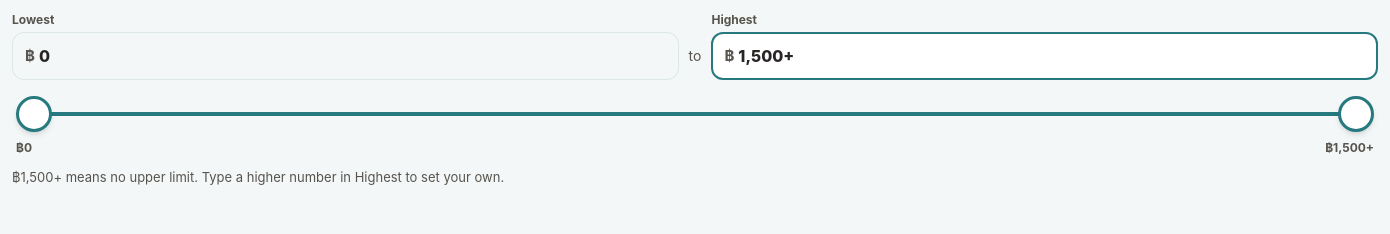
it: feat/27 the shared price slider: typed boxes and a bar, in a popover and in the sheet › typing a number › never grows the bar past 20,000, and cuts a larger Highest back to 20,000
Replace the text in the field labelled "Highest ฿" with "25000": (1052, 56) [738, 44, 1365, 68]
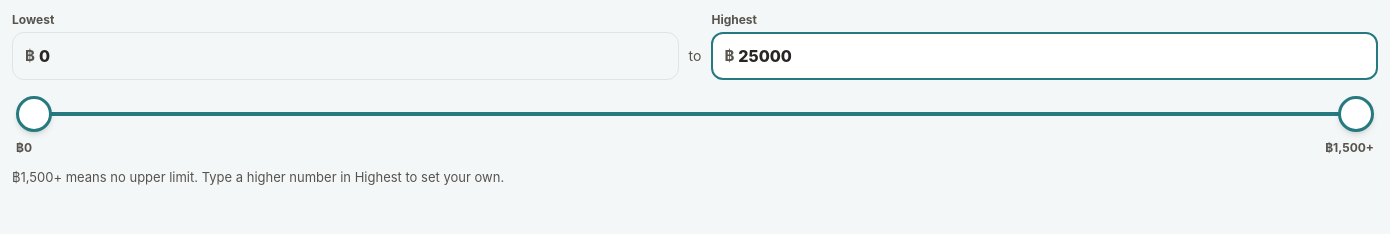
Leave the field labelled "Highest ฿", box [738, 44, 1365, 68]
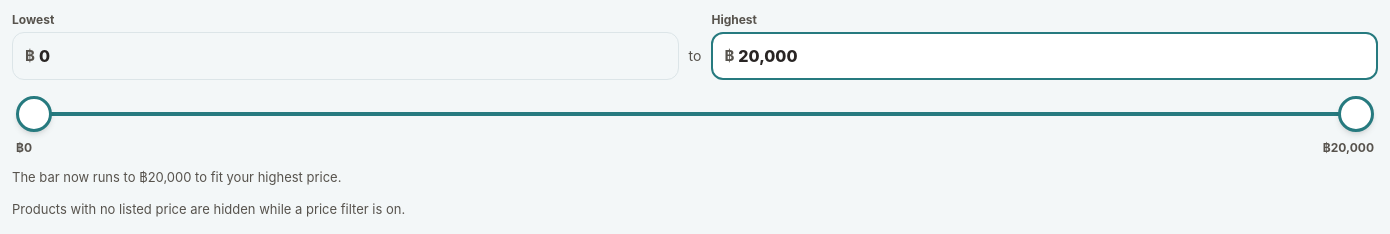
expect the field labelled "Highest ฿" holds "20,000": met, box [738, 44, 1365, 68]
expect the text "฿20,000" is shown: met, box [1323, 140, 1374, 156]
